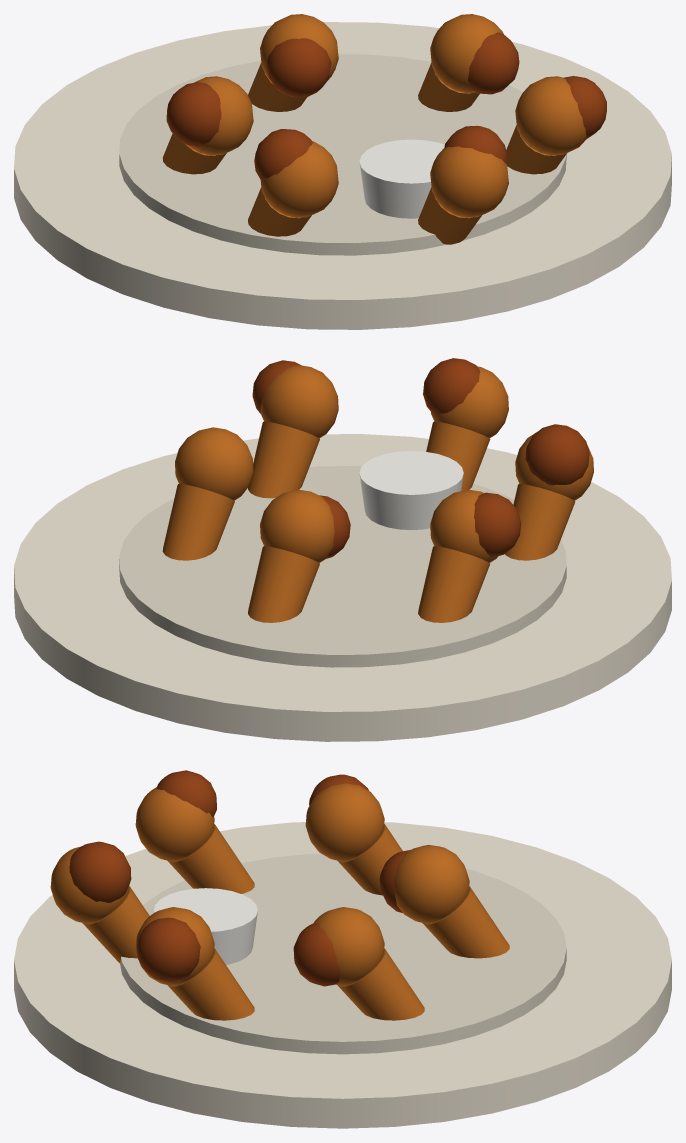
File: alitas.glb
3 renders of one model, top to bottom at view 1: azimuth 30°, elevation 25°; view 2: azimuth 150°, elevation 25°; view 3: azimuth 270°, elevation 25°, orthographic.
Bounding box in the file's own units: 0.24 × 0.0649 × 0.24.
